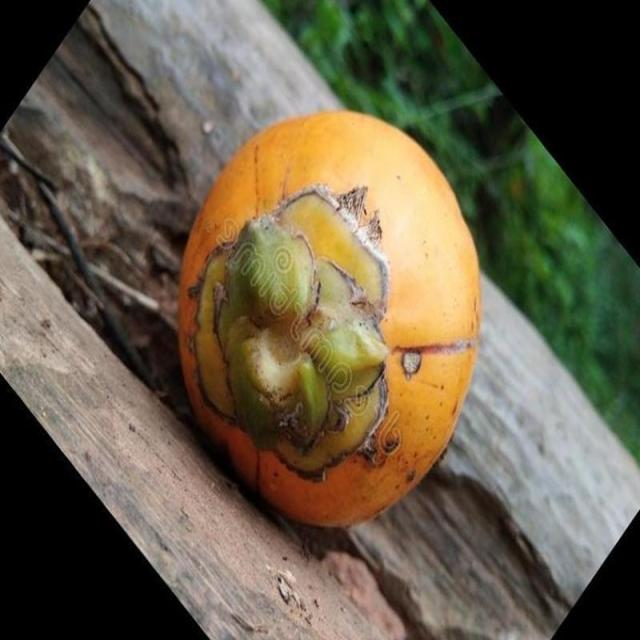good: (175, 111, 482, 532)
